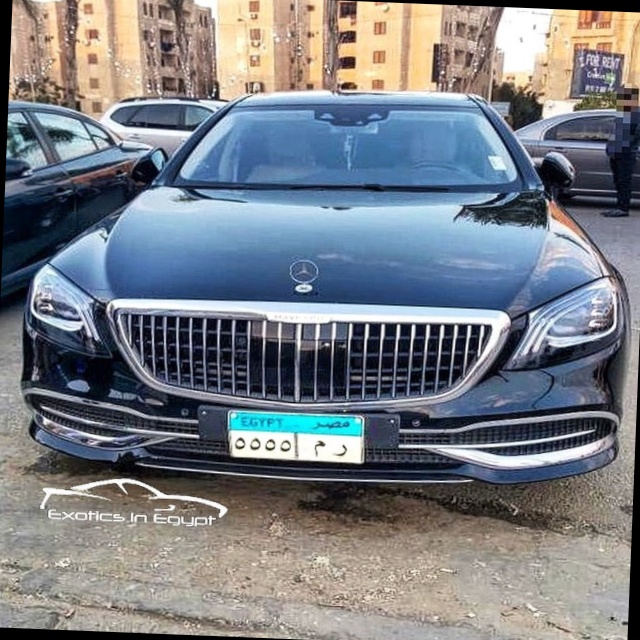License Plate: (224, 408, 367, 468)
